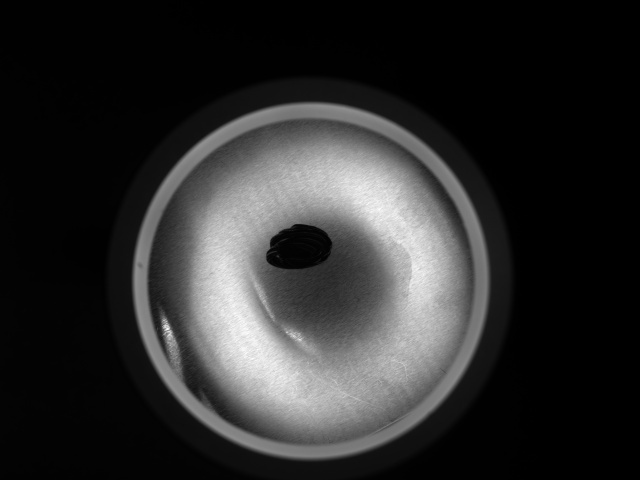zang_wu: (264, 222, 337, 268)
